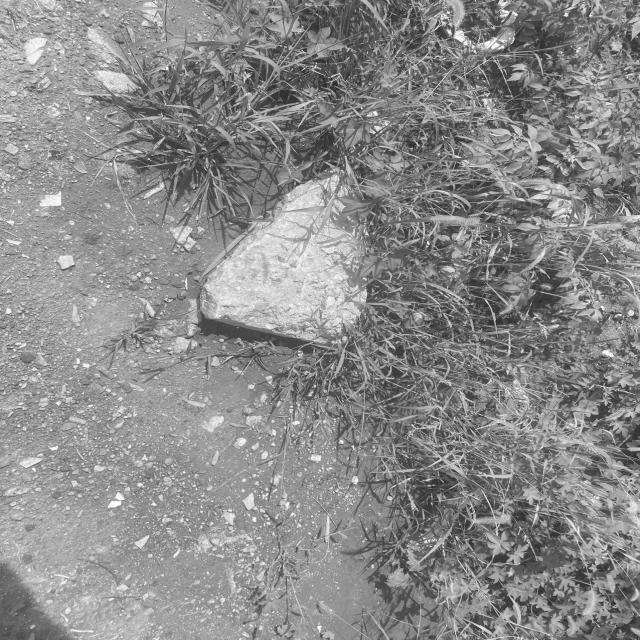Stone: (200, 175, 366, 342)
